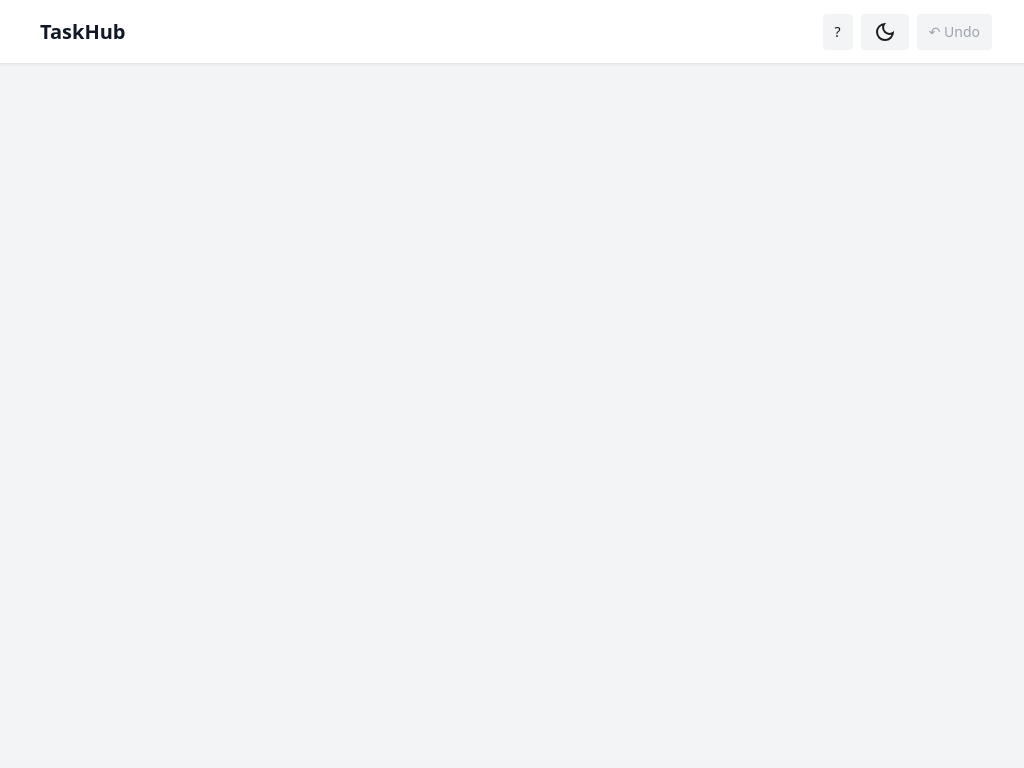
Test: Header › opens shortcut help modal when help button is clicked
Click the button named "show keyboard shortcuts" at point(838, 32), box [823,14,853,50]
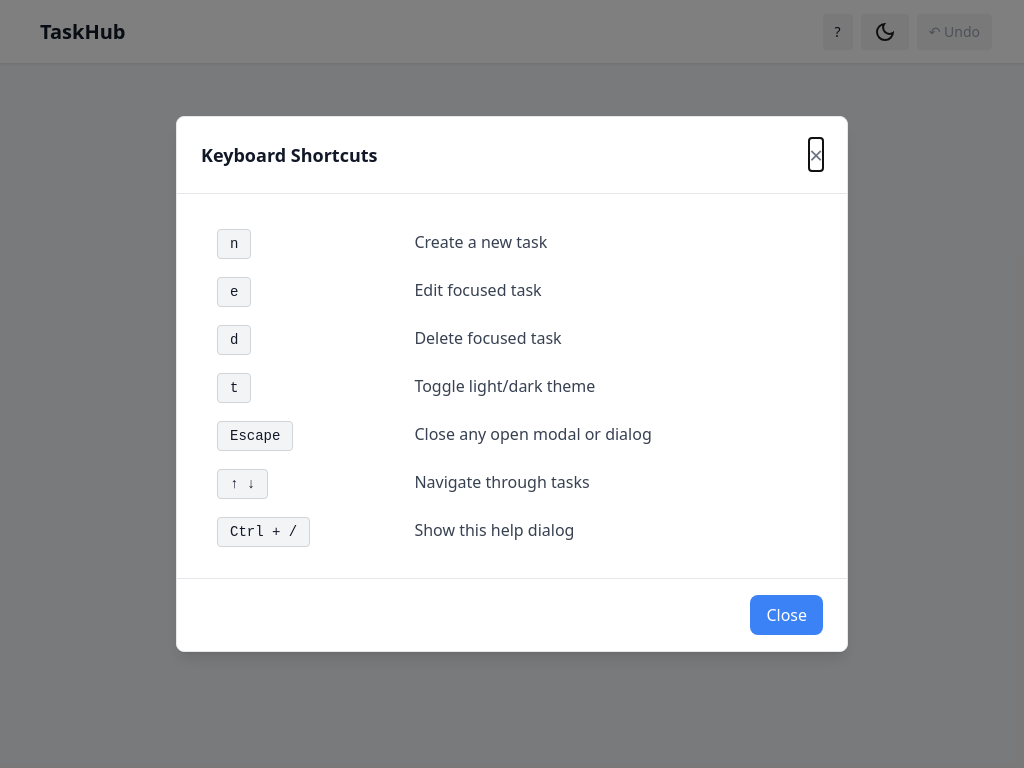
Now the heading "Keyboard Shortcuts" is shown, box [201,141,378,169]
